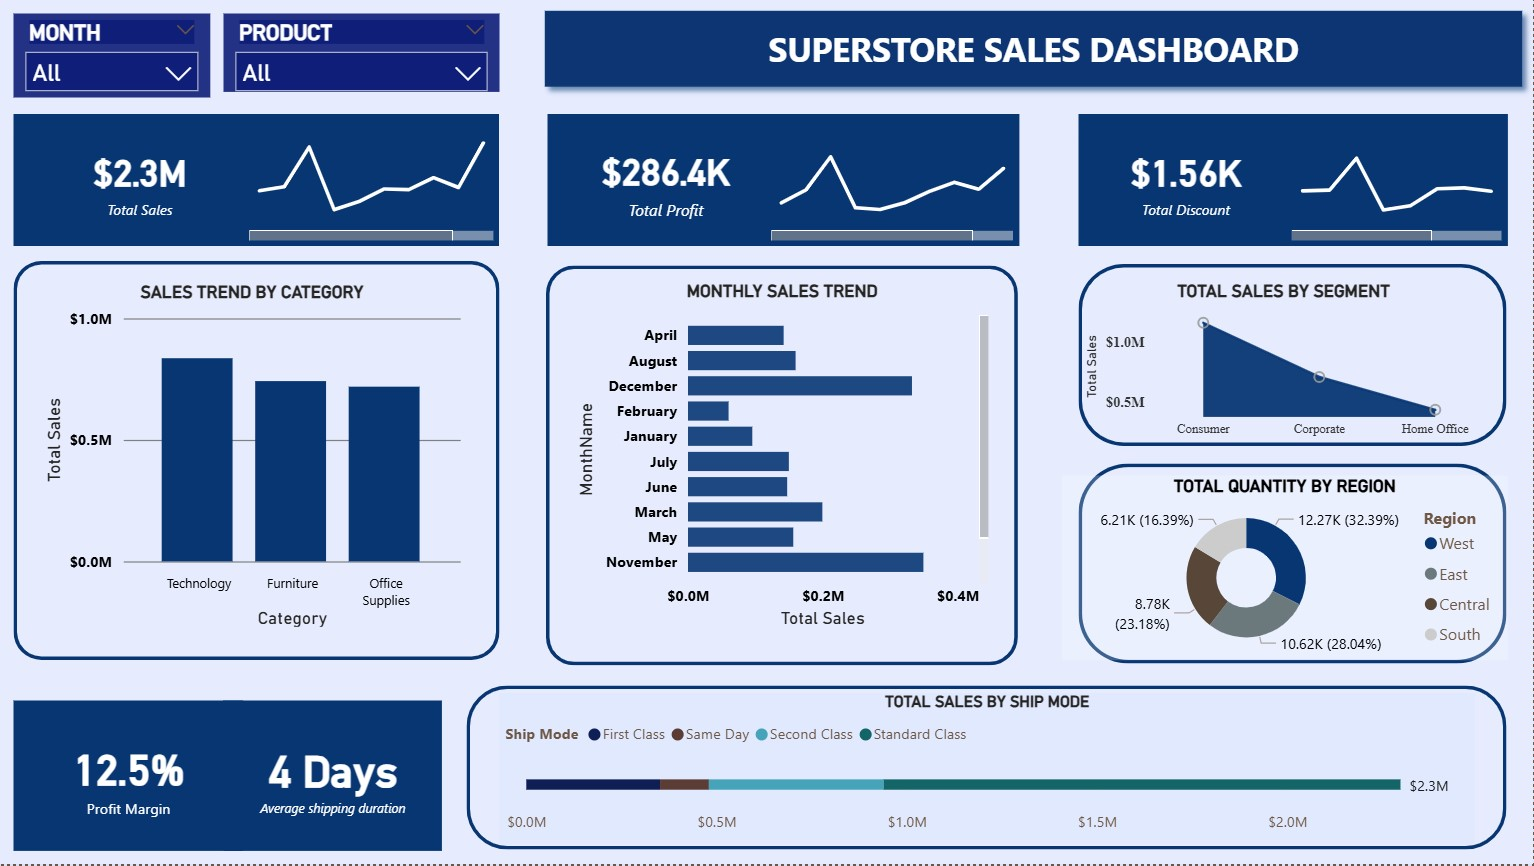

Layout of this report page (visuals, bound fields, positions):
{"tool":"powerbi","page":{"name":"Page 1","canvas":[1280,720],"ordinal":0},"visuals":[{"type":"card","fields":{"Values":["Orders.Total Sales"]},"box":[13.5,94.6,104.4,110.6],"z":0},{"type":"card","fields":{"Values":["Orders.Total Profit"]},"box":[248.2,95.8,133.9,109.4],"z":1000},{"type":"card","fields":{"Values":["Orders.Total Discount"]},"box":[785,96.2,117.5,108.8],"z":2000},{"type":"shape","box":[13.5,216.2,387,261.7],"z":3000},{"type":"columnChart","title":"SALES TREND BY CATEGORY","fields":{"Category":["Orders.Category"],"Y":["Orders.Total Sales"]},"box":[33.2,227.3,348.9,240.8],"z":4000},{"type":"shape","box":[876,216.2,382.1,261.7],"z":5000},{"type":"card","fields":{"Values":["Orders.Average shipping duration"]},"box":[1036.2,95,133.8,110],"z":6000},{"type":"shape","box":[447.5,0,832.5,81.2],"z":7000},{"type":"shape","box":[419,216.2,444.8,345.3],"z":8000},{"type":"clusteredBarChart","title":"MONTHLY SALES TREND","fields":{"Category":["Orders.YearMonth"],"Y":["Orders.Total Sales"]},"box":[436.2,227.3,388.3,324.4],"z":9000},{"type":"lineChart","fields":{"Y":["Orders.Total Sales"],"Category":["Orders.MonthName"]},"box":[114.3,94.6,116.7,110.6],"z":10000},{"type":"lineChart","fields":{"Y":["Orders.Total Profit"],"Category":["Orders.MonthName"]},"box":[373.5,95.8,124.1,109.4],"z":11000},{"type":"lineChart","fields":{"Y":["Orders.Total Discount"],"Category":["Orders.MonthName"]},"box":[890,96.2,126.2,108.8],"z":12000},{"type":"shape","box":[11.1,486.6,371.1,222.4],"z":13000},{"type":"donutChart","title":"QUANTITY BY REGION","fields":{"Y":["Orders.Total Quantity"],"Category":["Orders.Region"]},"box":[2.5,500.1,379.7,208.9],"z":14000},{"type":"card","fields":{"Values":["Orders.Profit Margin"]},"box":[1169,95.4,101.5,109],"z":15000},{"type":"shape","box":[391.9,571.3,497.6,137.6],"z":16000},{"type":"barChart","title":"TOTAL SALES BY SHIP MODE","fields":{"Y":["Orders.Total Sales"],"Series":["Orders.Ship Mode"]},"box":[401.3,576.9,475.5,125.7],"z":17000},{"type":"slicer","fields":{"Values":["Orders.MonthName"]},"box":[13.8,11.2,163.8,65],"z":18000},{"type":"slicer","fields":{"Values":["Orders.Product Name"]},"box":[188.8,11.2,230,65],"z":19000},{"type":"shape","box":[902.5,492.1,355.8,216.5],"z":20000},{"type":"card","fields":{"Values":["Orders.Total Quantity"]},"box":[511.2,96.2,118.8,108.8],"z":21000},{"type":"lineChart","fields":{"Y":["Orders.Total Quantity"],"Category":["Orders.MonthName"]},"box":[621.2,96.2,142.5,108.8],"z":22000},{"type":"lineChart","title":"MONTHLY PROFIT TREND","fields":{"Y":["Orders.Total Profit"],"Category":["Orders.MonthName"]},"box":[876.7,227.1,371,240.8],"z":23000},{"type":"pieChart","title":"PROFIT BY REGION","fields":{"Y":["Orders.Total Profit"],"Category":["Orders.Region"]},"box":[908.5,499.7,348.3,202.9],"z":24000}]}

Visuals, with their boxes in screenshot pixels (x1, y1, x2, y2), scaled from the page's 1280x720 canvas onto the 1534x866 screenshot:
card - Orders.Total Sales: bbox=(16, 114, 141, 247)
card - Orders.Total Profit: bbox=(297, 115, 458, 247)
card - Orders.Total Discount: bbox=(941, 116, 1082, 247)
shape: bbox=(16, 260, 480, 575)
"SALES TREND BY CATEGORY" columnChart: bbox=(40, 273, 458, 563)
shape: bbox=(1050, 260, 1508, 575)
card - Orders.Average shipping duration: bbox=(1242, 114, 1402, 247)
shape: bbox=(536, 0, 1533, 98)
shape: bbox=(502, 260, 1035, 675)
"MONTHLY SALES TREND" clusteredBarChart: bbox=(523, 273, 988, 664)
lineChart - Orders.Total Sales x Orders.MonthName: bbox=(137, 114, 277, 247)
lineChart - Orders.Total Profit x Orders.MonthName: bbox=(448, 115, 596, 247)
lineChart - Orders.Total Discount x Orders.MonthName: bbox=(1067, 116, 1218, 247)
shape: bbox=(13, 585, 458, 853)
"QUANTITY BY REGION" donutChart: bbox=(3, 602, 458, 853)
card - Orders.Profit Margin: bbox=(1401, 115, 1523, 246)
shape: bbox=(470, 687, 1066, 853)
"TOTAL SALES BY SHIP MODE" barChart: bbox=(481, 694, 1051, 845)
slicer - Orders.MonthName: bbox=(17, 13, 213, 92)
slicer - Orders.Product Name: bbox=(226, 13, 502, 92)
shape: bbox=(1082, 592, 1508, 852)
card - Orders.Total Quantity: bbox=(613, 116, 755, 247)
lineChart - Orders.Total Quantity x Orders.MonthName: bbox=(744, 116, 915, 247)
"MONTHLY PROFIT TREND" lineChart: bbox=(1051, 273, 1495, 563)
"PROFIT BY REGION" pieChart: bbox=(1089, 601, 1506, 845)
